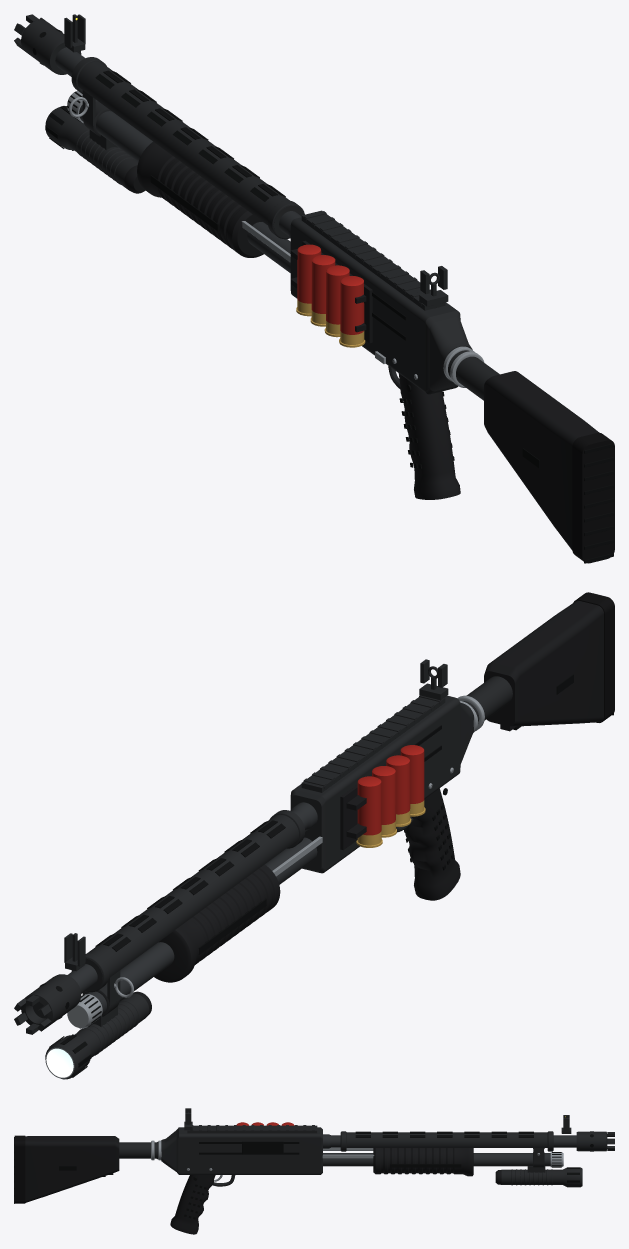
The model's file is grinmington.glb.
3 renders of one model, top to bottom at view 1: azimuth 30°, elevation 25°; view 2: azimuth 150°, elevation 25°; view 3: azimuth 270°, elevation 25°, orthographic. The views are drawn at different scales.
Visible parts, largest first — view 1: GM_Body, GM_Pump, GM_Breacher, GM_IronRear, GM_IronFront; view 2: GM_Body, GM_Pump, GM_Breacher, GM_IronRear, GM_IronFront; view 3: GM_Body, GM_Pump, GM_Breacher.
Part boxes in pixels (box(x1,y1,x2,y2)): GM_Body: box(45, 47, 614, 563); GM_Pump: box(137, 141, 290, 262); GM_Breacher: box(14, 14, 81, 74); GM_IronRear: box(419, 266, 448, 306); GM_IronFront: box(64, 14, 85, 52); GM_Body: box(45, 592, 614, 1079); GM_Pump: box(154, 836, 322, 982); GM_Breacher: box(14, 974, 81, 1034); GM_IronRear: box(419, 659, 448, 700); GM_IronFront: box(64, 933, 85, 971); GM_Body: box(14, 1122, 582, 1234); GM_Pump: box(322, 1147, 473, 1176); GM_Breacher: box(576, 1131, 614, 1151).
Bounding box in the file's own units: 0.071 × 0.2258 × 1.02.
